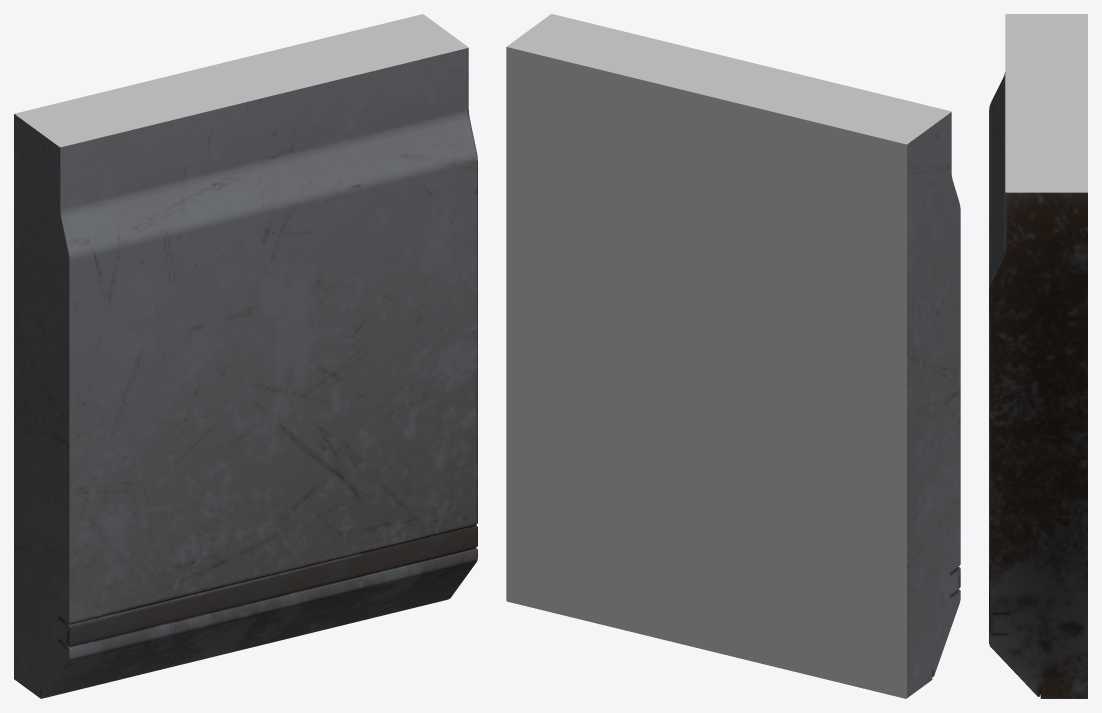
File: SM_HangarWall04.fbx
3 renders of one model, left to right at view 1: azimuth 30°, elevation 25°; view 2: azimuth 150°, elevation 25°; view 3: azimuth 270°, elevation 25°, orthographic. The views are drawn at different scales.
Visible parts, largest first — view 1: SM_HangarWall04_LOD0; view 2: SM_HangarWall04_LOD0; view 3: SM_HangarWall04_LOD0.
Boxes of the visible parts, x1,y1,x2,y2 form: SM_HangarWall04_LOD0: [14, 14, 477, 698]; SM_HangarWall04_LOD0: [506, 14, 960, 698]; SM_HangarWall04_LOD0: [989, 14, 1087, 698].
Bounding box in the file's own units: 300 × 70.16 × 397.
Materials: 2 (1 with a texture image).
